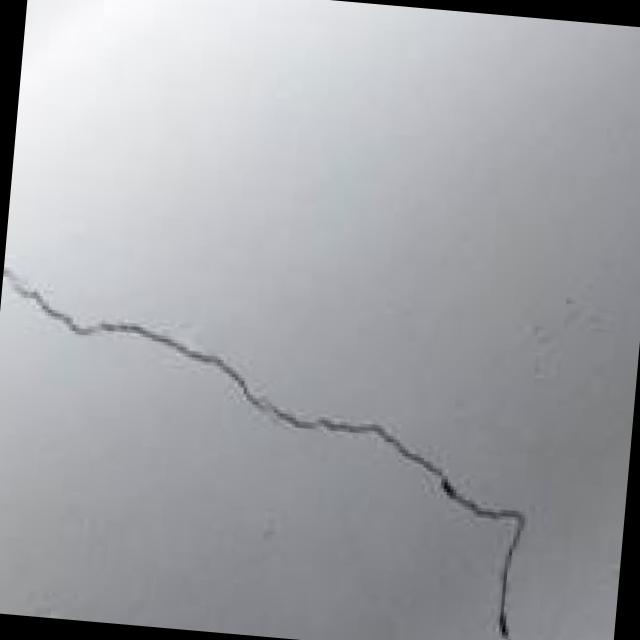crack: (0, 244, 579, 640)
